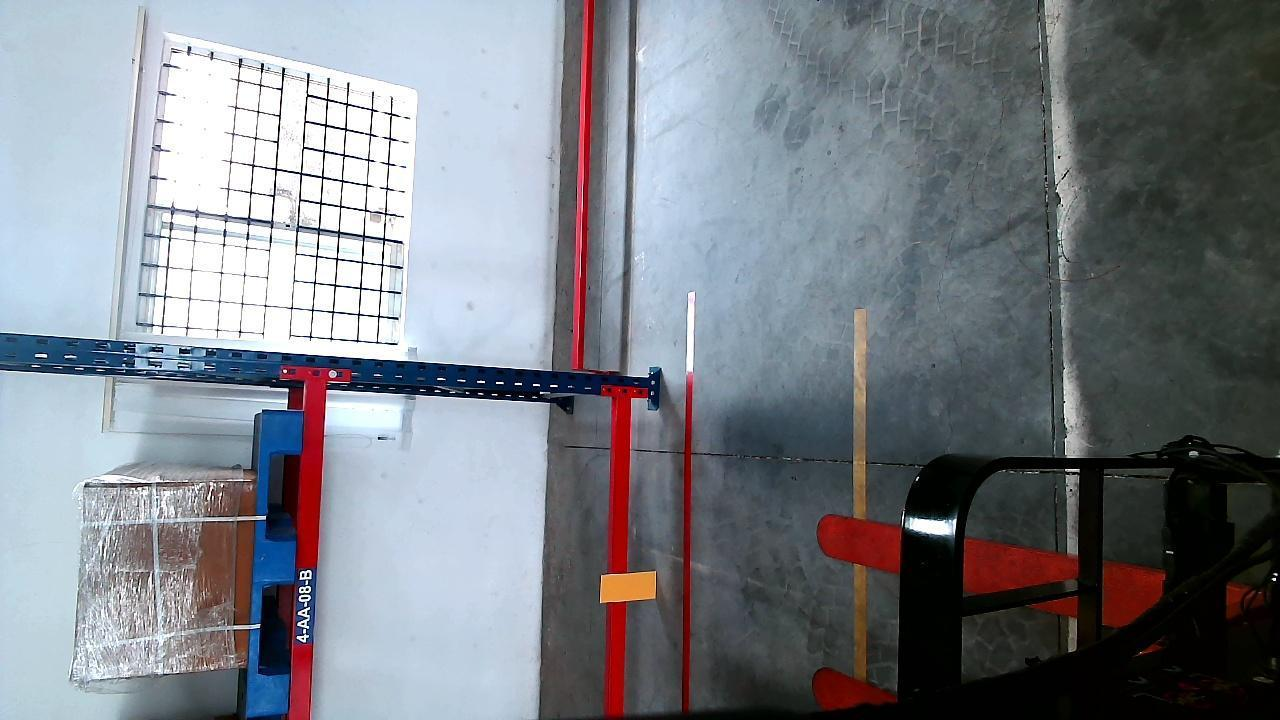h_rack: (289, 382, 331, 717), (608, 386, 636, 712)
orange_strip: (603, 571, 655, 601)
red_line: (679, 288, 699, 710)
small_pallet: (250, 414, 304, 710)
yellow_line: (851, 305, 869, 684)
